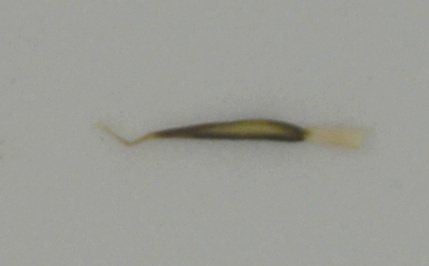เมล็ดงอกแตก: (92, 112, 364, 157)
